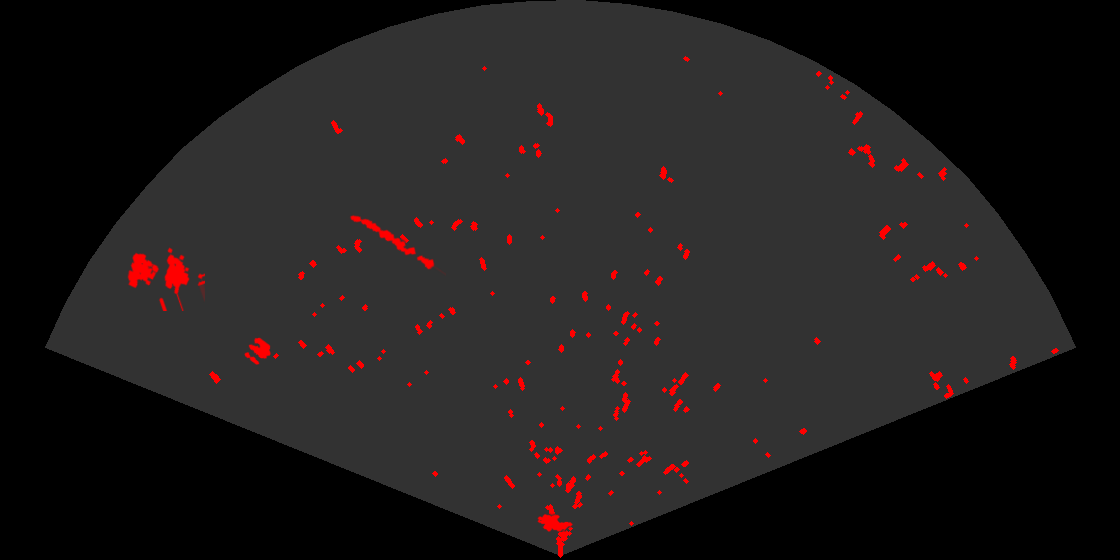AUV: (536, 512, 574, 532)
ball: (243, 336, 273, 366)
cage: (126, 246, 205, 311)
chain: (348, 213, 446, 276)
